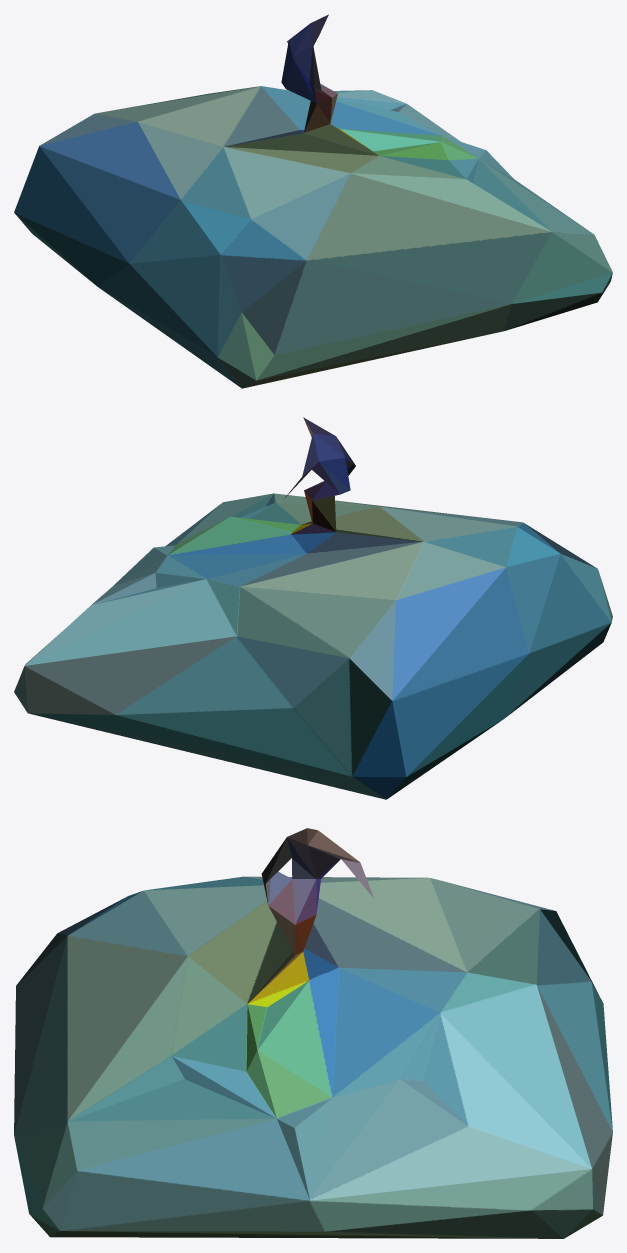
File: surf.fbx
3 views of the same model, one above another, from view 1: azimuth 30°, elevation 25°; view 2: azimuth 150°, elevation 25°; view 3: azimuth 270°, elevation 25° (orthographic). The views are drawn at different scales.
Parts seen in each view (by area): view 1: Mesh_0; view 2: Mesh_0; view 3: Mesh_0.
Part boxes in pixels (x1=…): Mesh_0: x1=14, y1=14, x2=612, y2=388; Mesh_0: x1=14, y1=417, x2=612, y2=799; Mesh_0: x1=14, y1=828, x2=612, y2=1238.
Size of the model in its own units: 114 by 67.99 by 119.
1 material, 1 textured.
